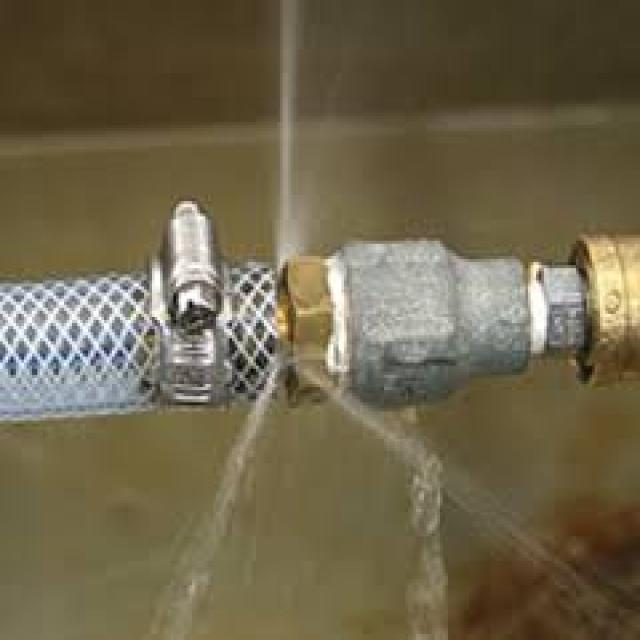pipe burst: (152, 347, 623, 640), (268, 0, 322, 282)
